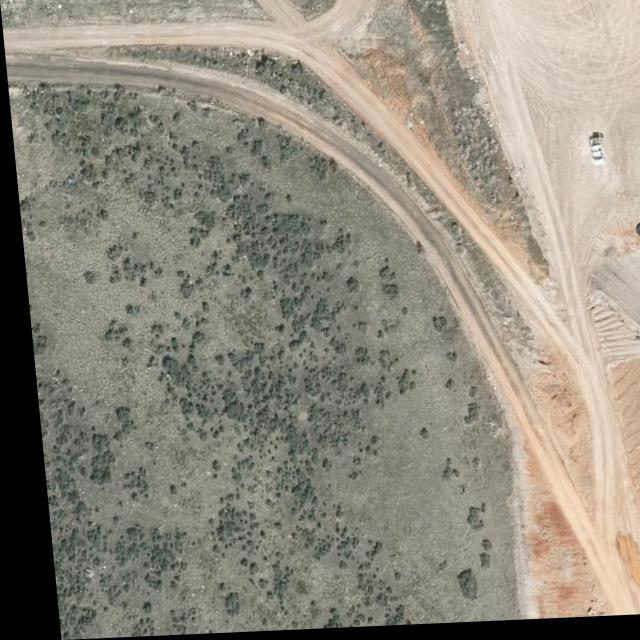vehicle: (582, 139, 606, 171)
